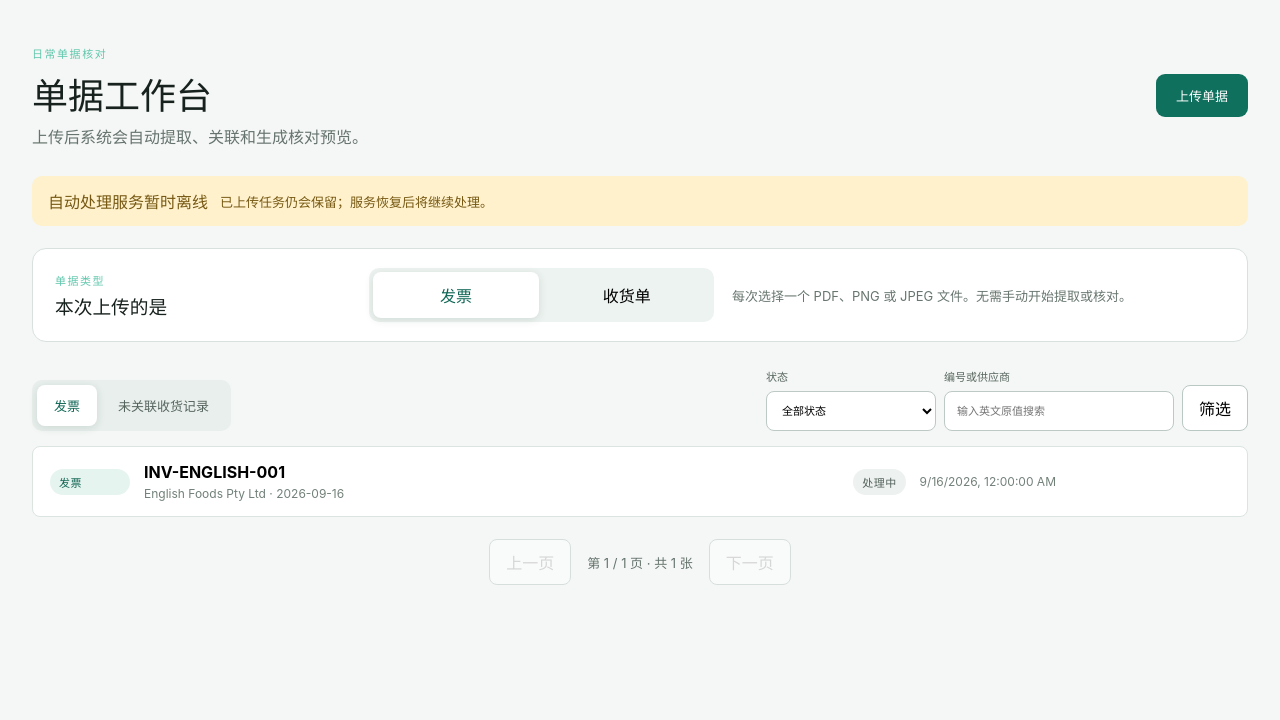
Test: WorkspacePage › defaults to invoices, separates an offline worker from an empty list, and can show receive notes first
This screenshot has width=1280, height=720.
Expected: the text "INV-ENGLISH-001" is shown, top-left (144, 462), bottom-right (285, 482)
Expected: the text "自动处理服务暂时离线" is shown, top-left (48, 189), bottom-right (208, 213)
Step 1. Click the button "未关联收货记录" → (164, 406), box top-left (101, 385), bottom-right (226, 426)
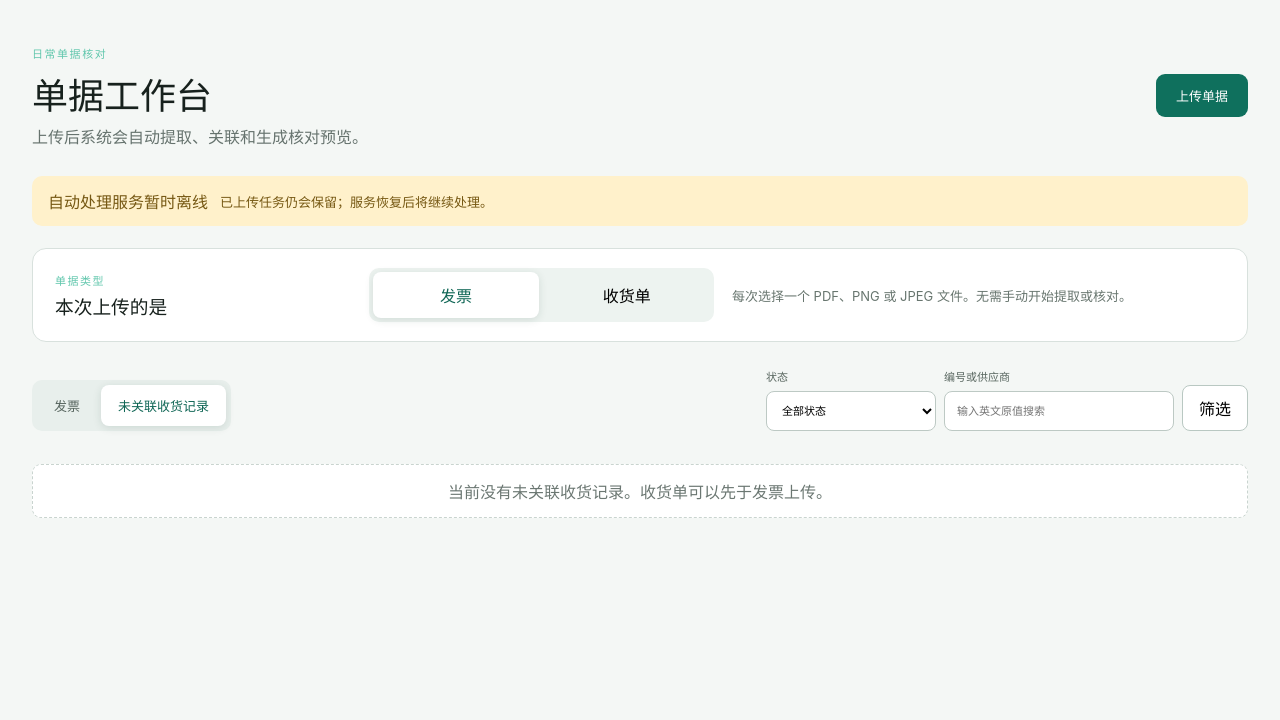
Expected: the text "自动处理服务暂时离线" is shown, top-left (48, 189), bottom-right (208, 213)
Now the text "当前没有未关联收货记录。收货单可以先于发票上传。" is shown, box top-left (32, 464), bottom-right (1248, 518)
